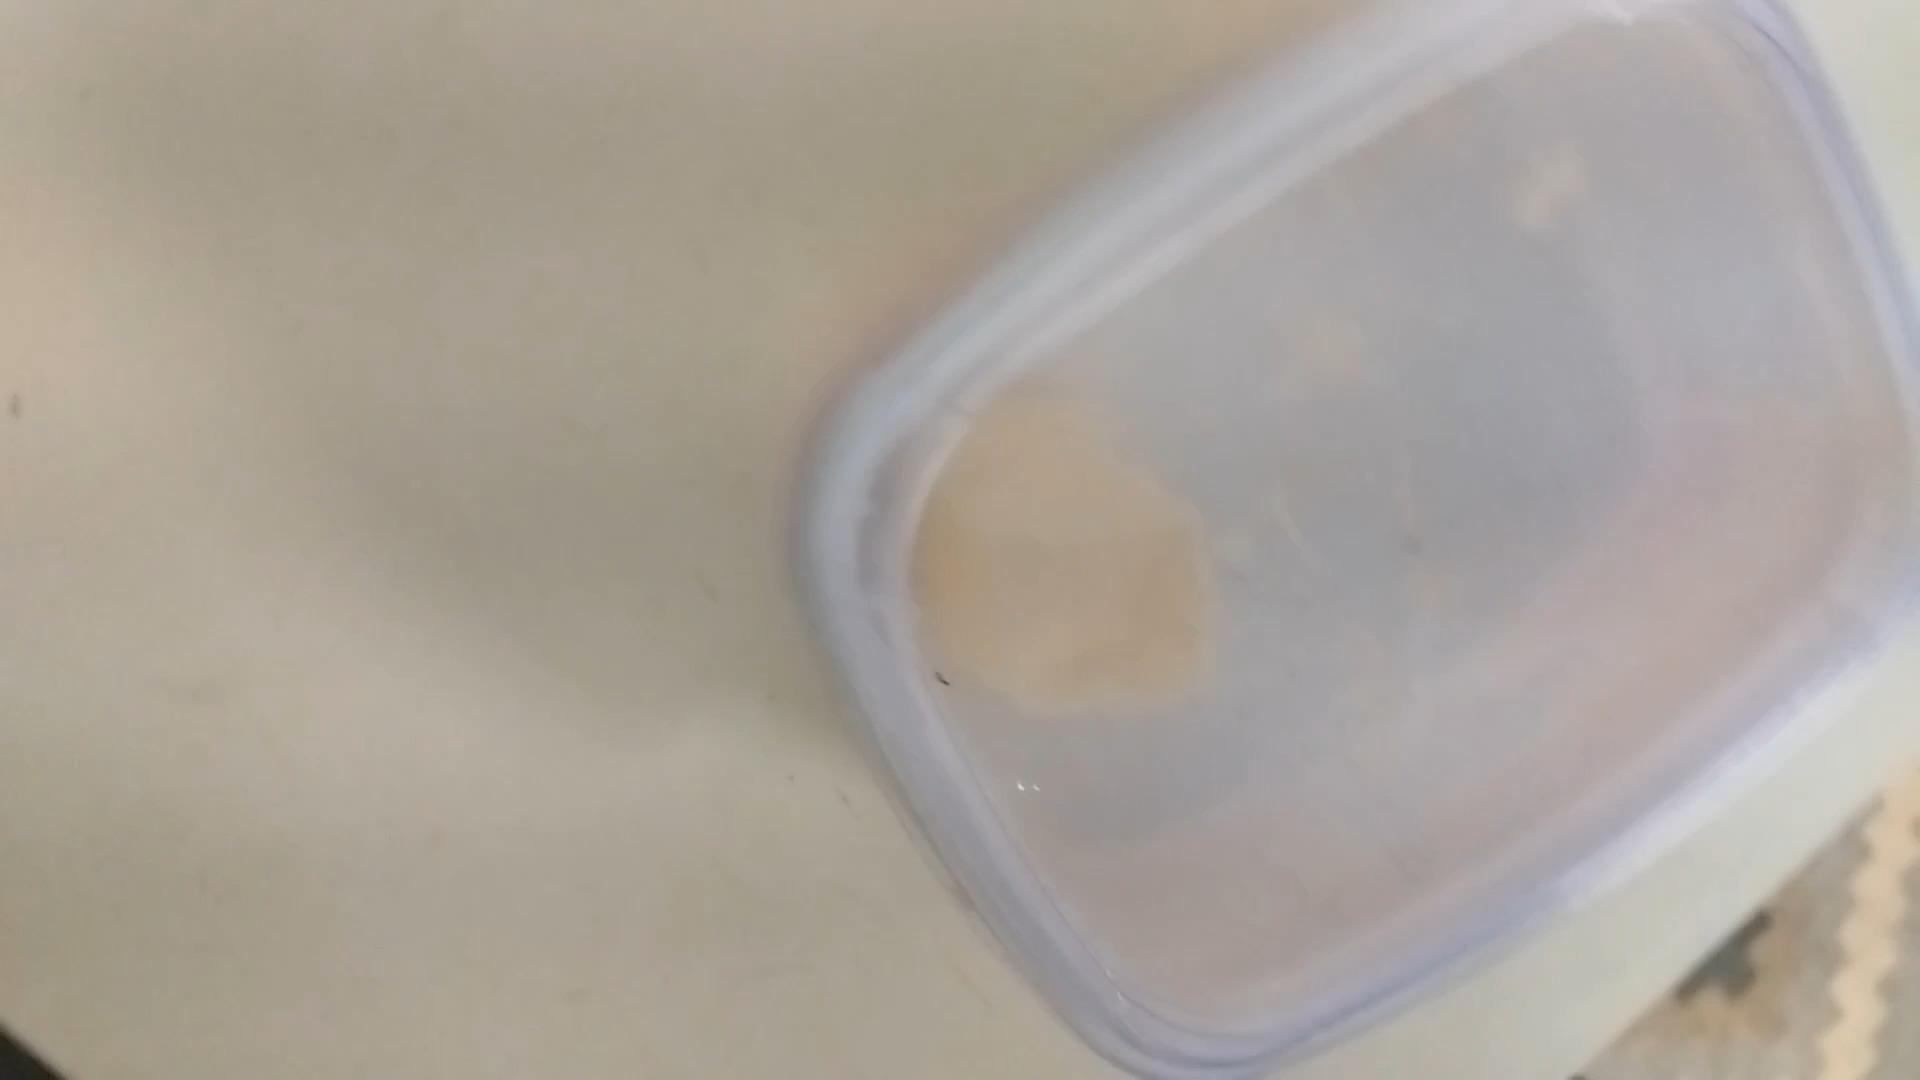butter: (798, 1, 1919, 1076)
